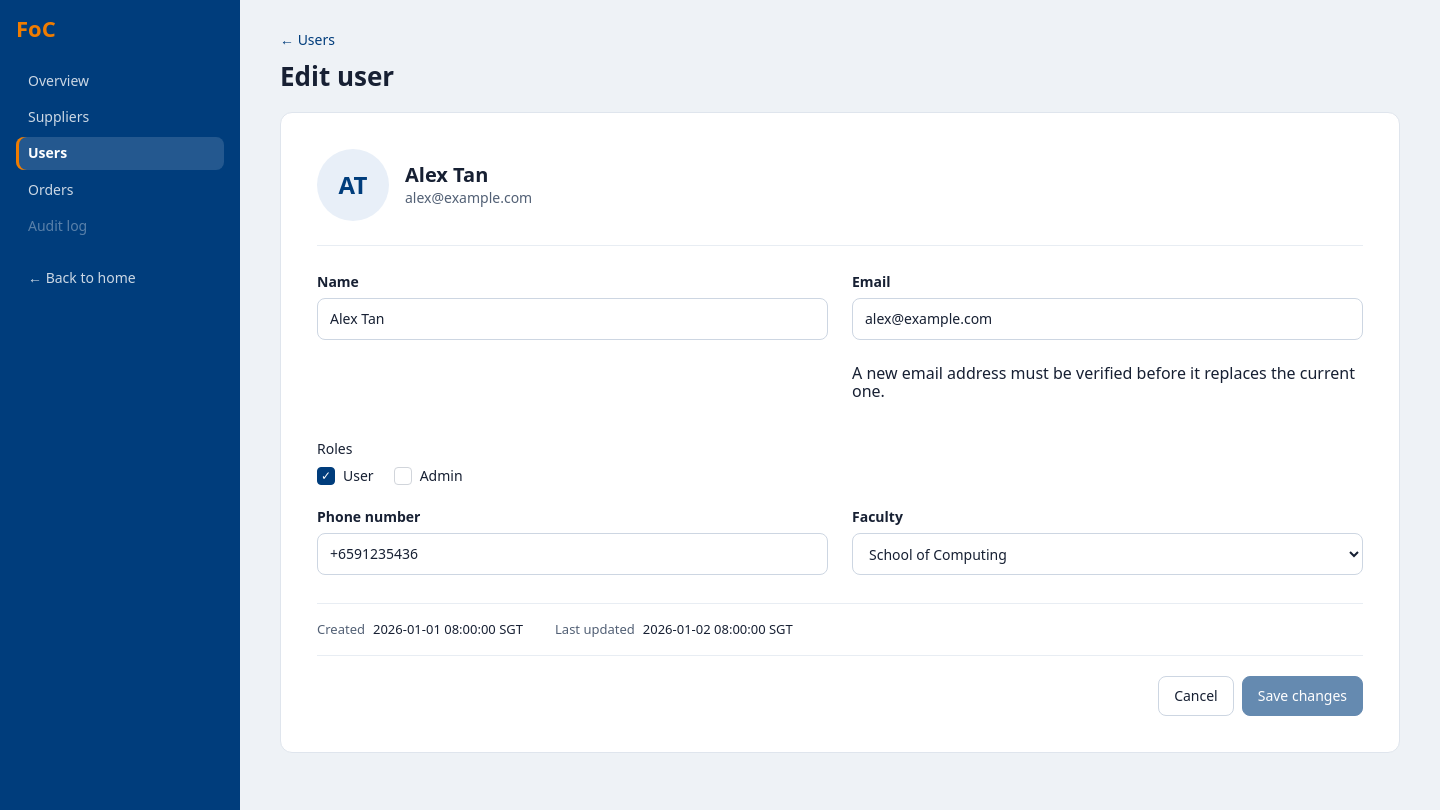
Test case: saving a user returns to the list and confirms the change
Check: the heading "Edit user" is shown, box [280,62,394,92]
Check: the button "Save changes" is disabled, box [1242,676,1363,716]
Replace the text in the field labelled "Name" with "Alex Lee" at [572, 319], box [317,298,828,340]
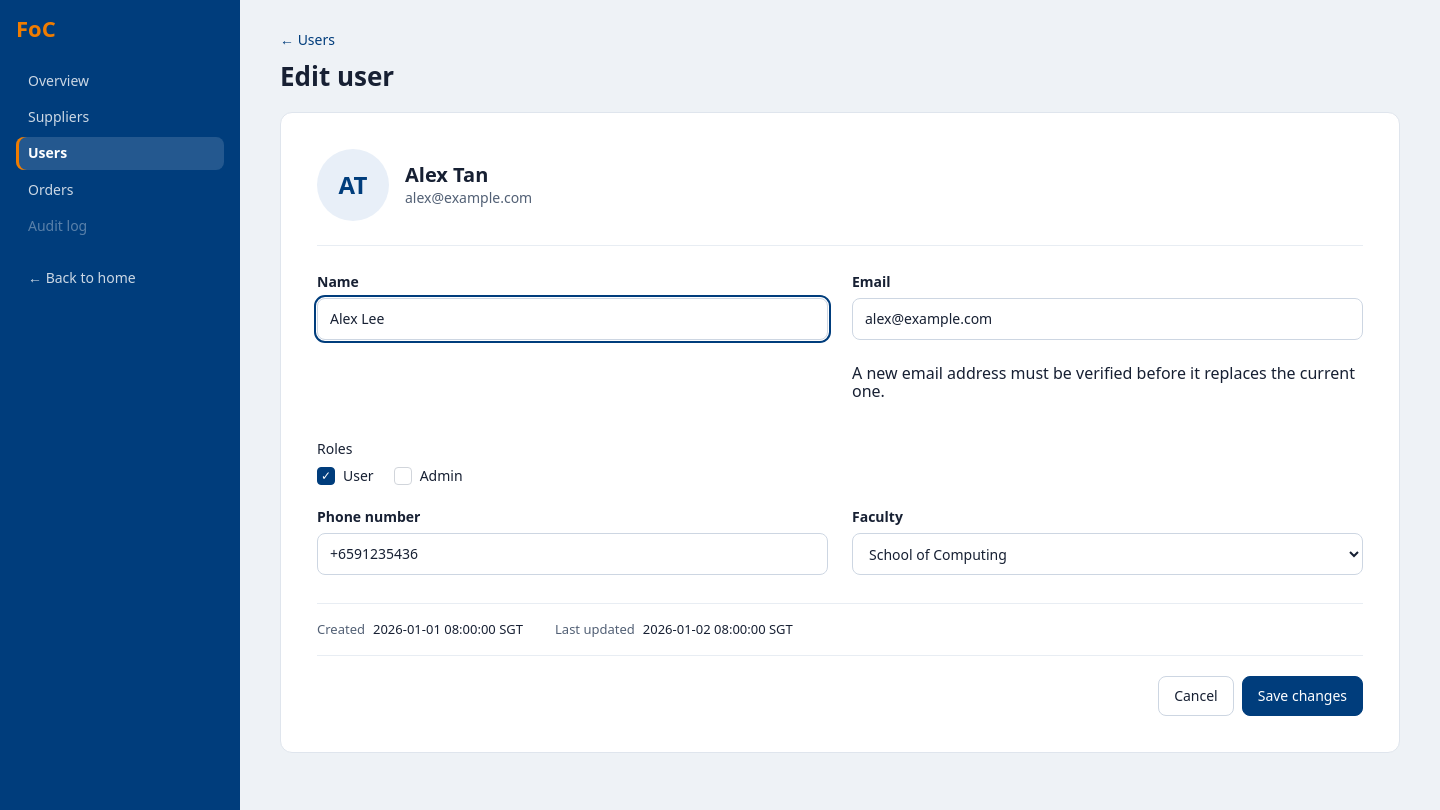
Check: the button "Save changes" is enabled, box [1242,676,1363,716]
Click the link "Users" at [120, 154], box [16,138,224,170]
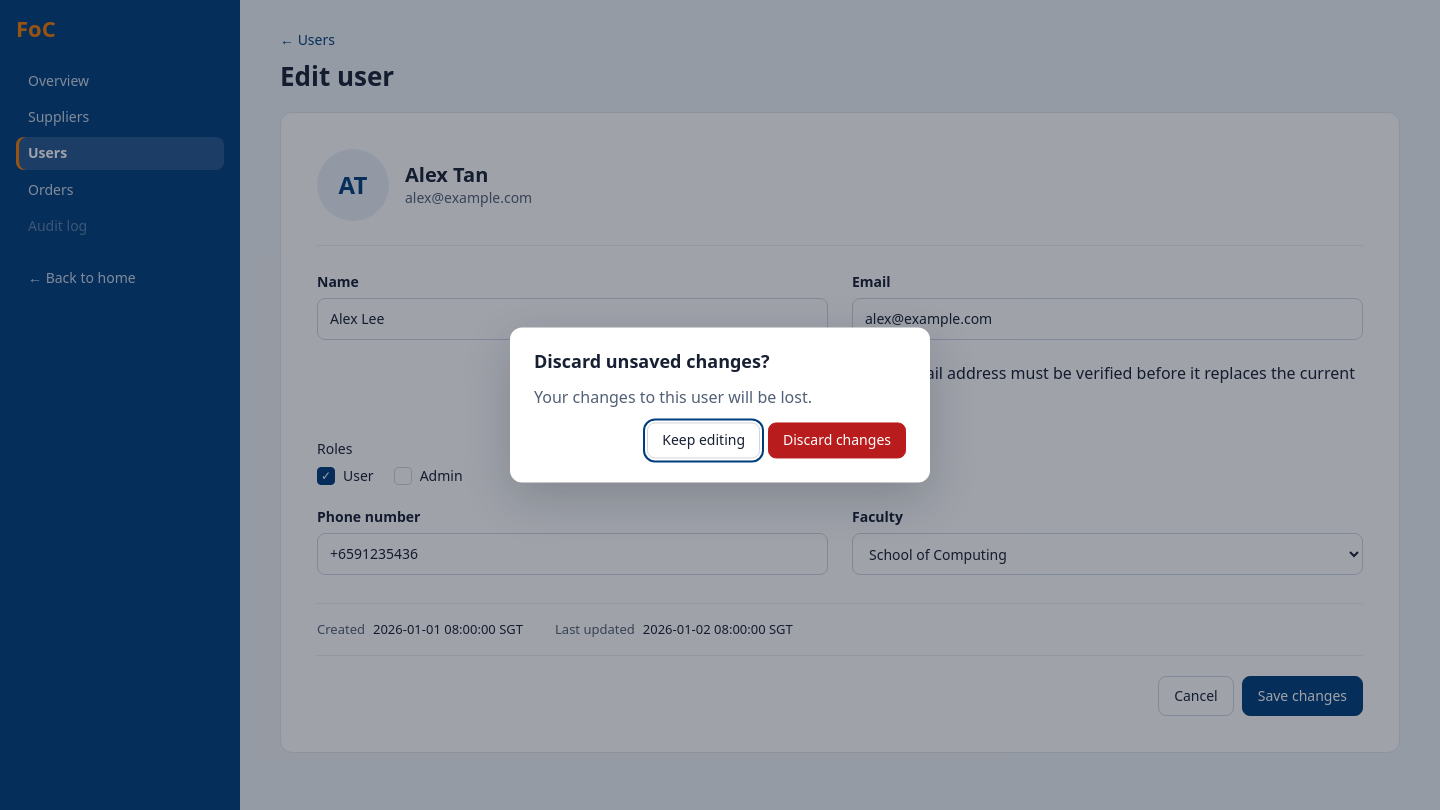
Check: the heading "Discard unsaved changes?" is shown, box [534,350,770,374]
Click the button "Keep editing" at [704, 440], box [647,422,760,458]
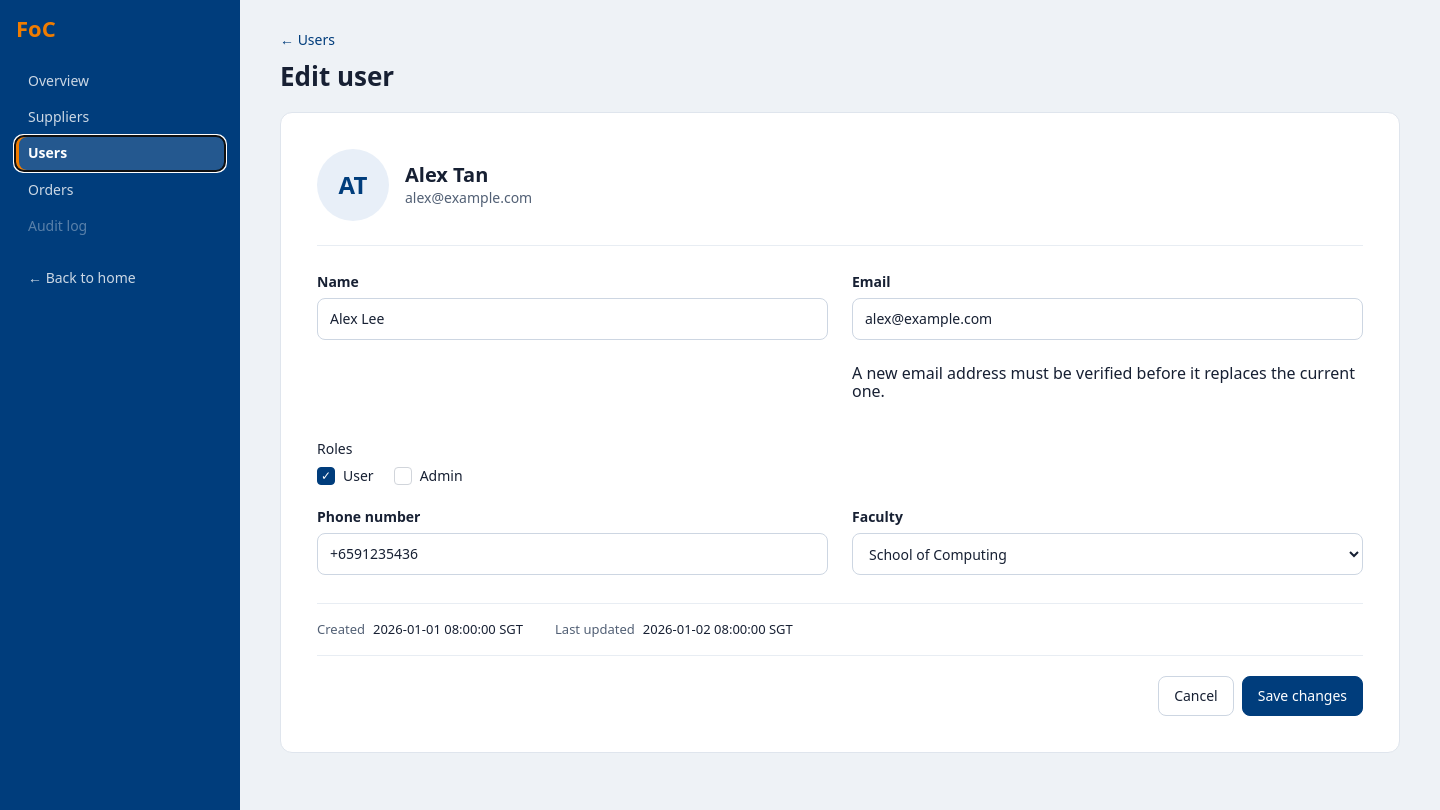
Click the button "Save changes" at [1302, 696], box [1242,676,1363,716]
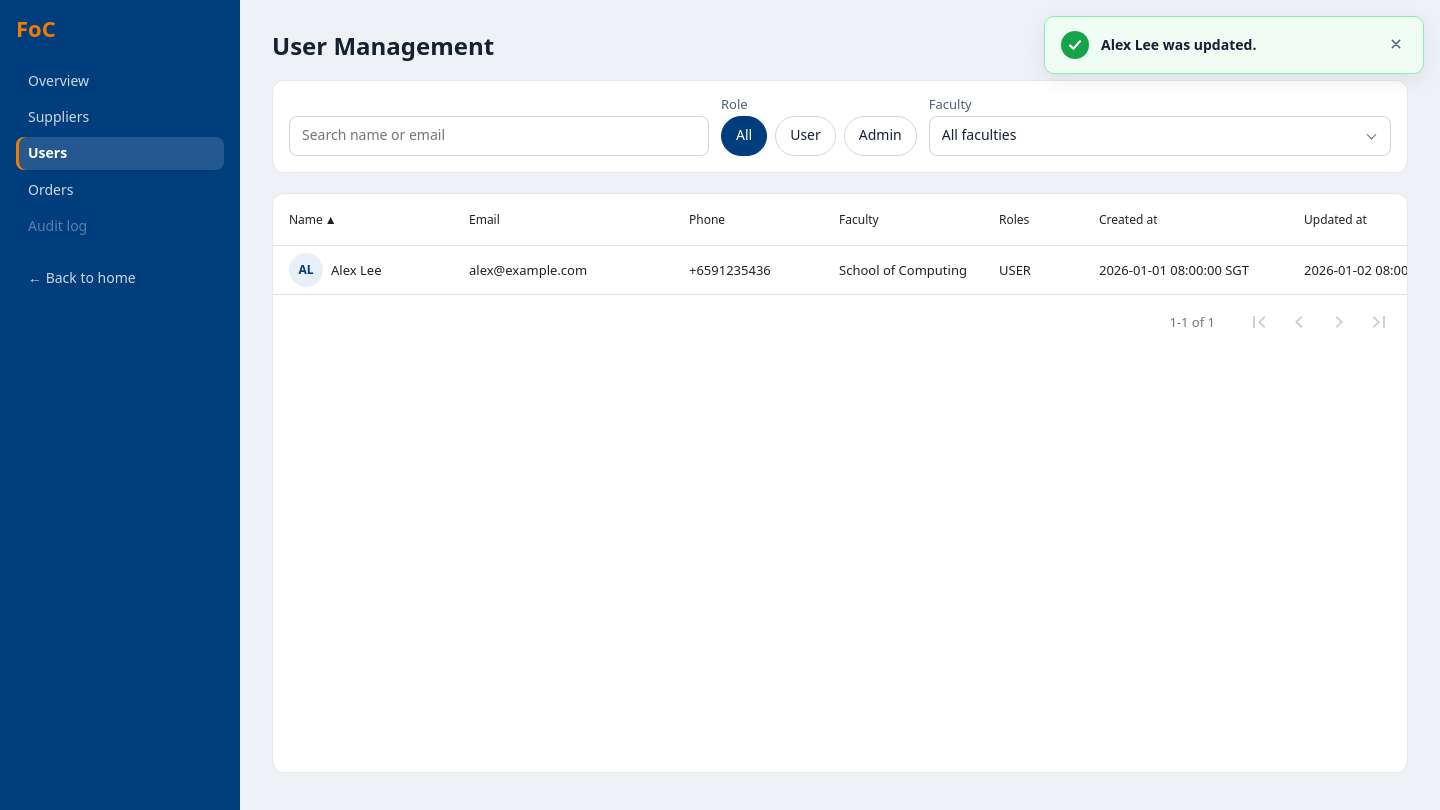
Check: the heading "User Management" is shown, box [272,32,494,60]
Check: the heading "Alex Lee was updated." is shown, box [1101,35,1256,54]
